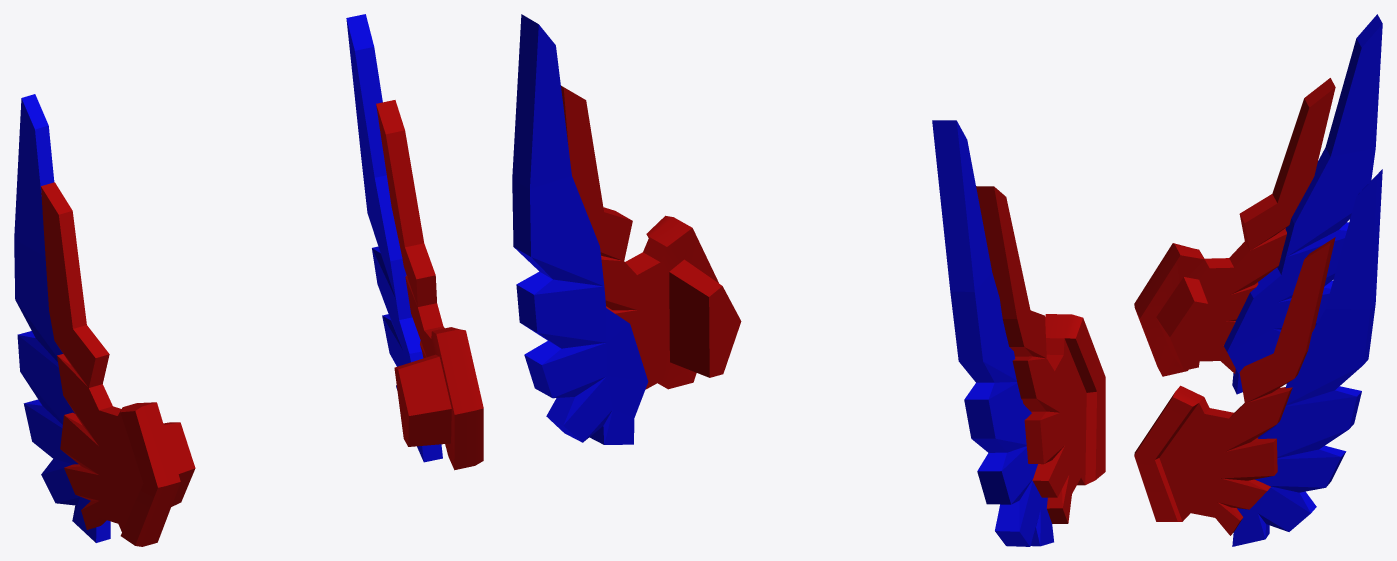
The model's file is Chr_HelmetAttachment_Static_03.fbx.
3 views of the same model, side by side, from view 1: azimuth 30°, elevation 25°; view 2: azimuth 150°, elevation 25°; view 3: azimuth 270°, elevation 25° (orthographic). The views are drawn at different scales.
Parts seen in each view (by area): view 1: Chr_HelmetAttachment_03; view 2: Chr_HelmetAttachment_03; view 3: Chr_HelmetAttachment_03.
Boxes of the visible parts, x1,y1,x2,y2 form: Chr_HelmetAttachment_03: (14,14,483,546); Chr_HelmetAttachment_03: (512,14,1105,546); Chr_HelmetAttachment_03: (1134,14,1382,546).
Bounding box in the file's own units: 33.8 × 33.42 × 20.16.
